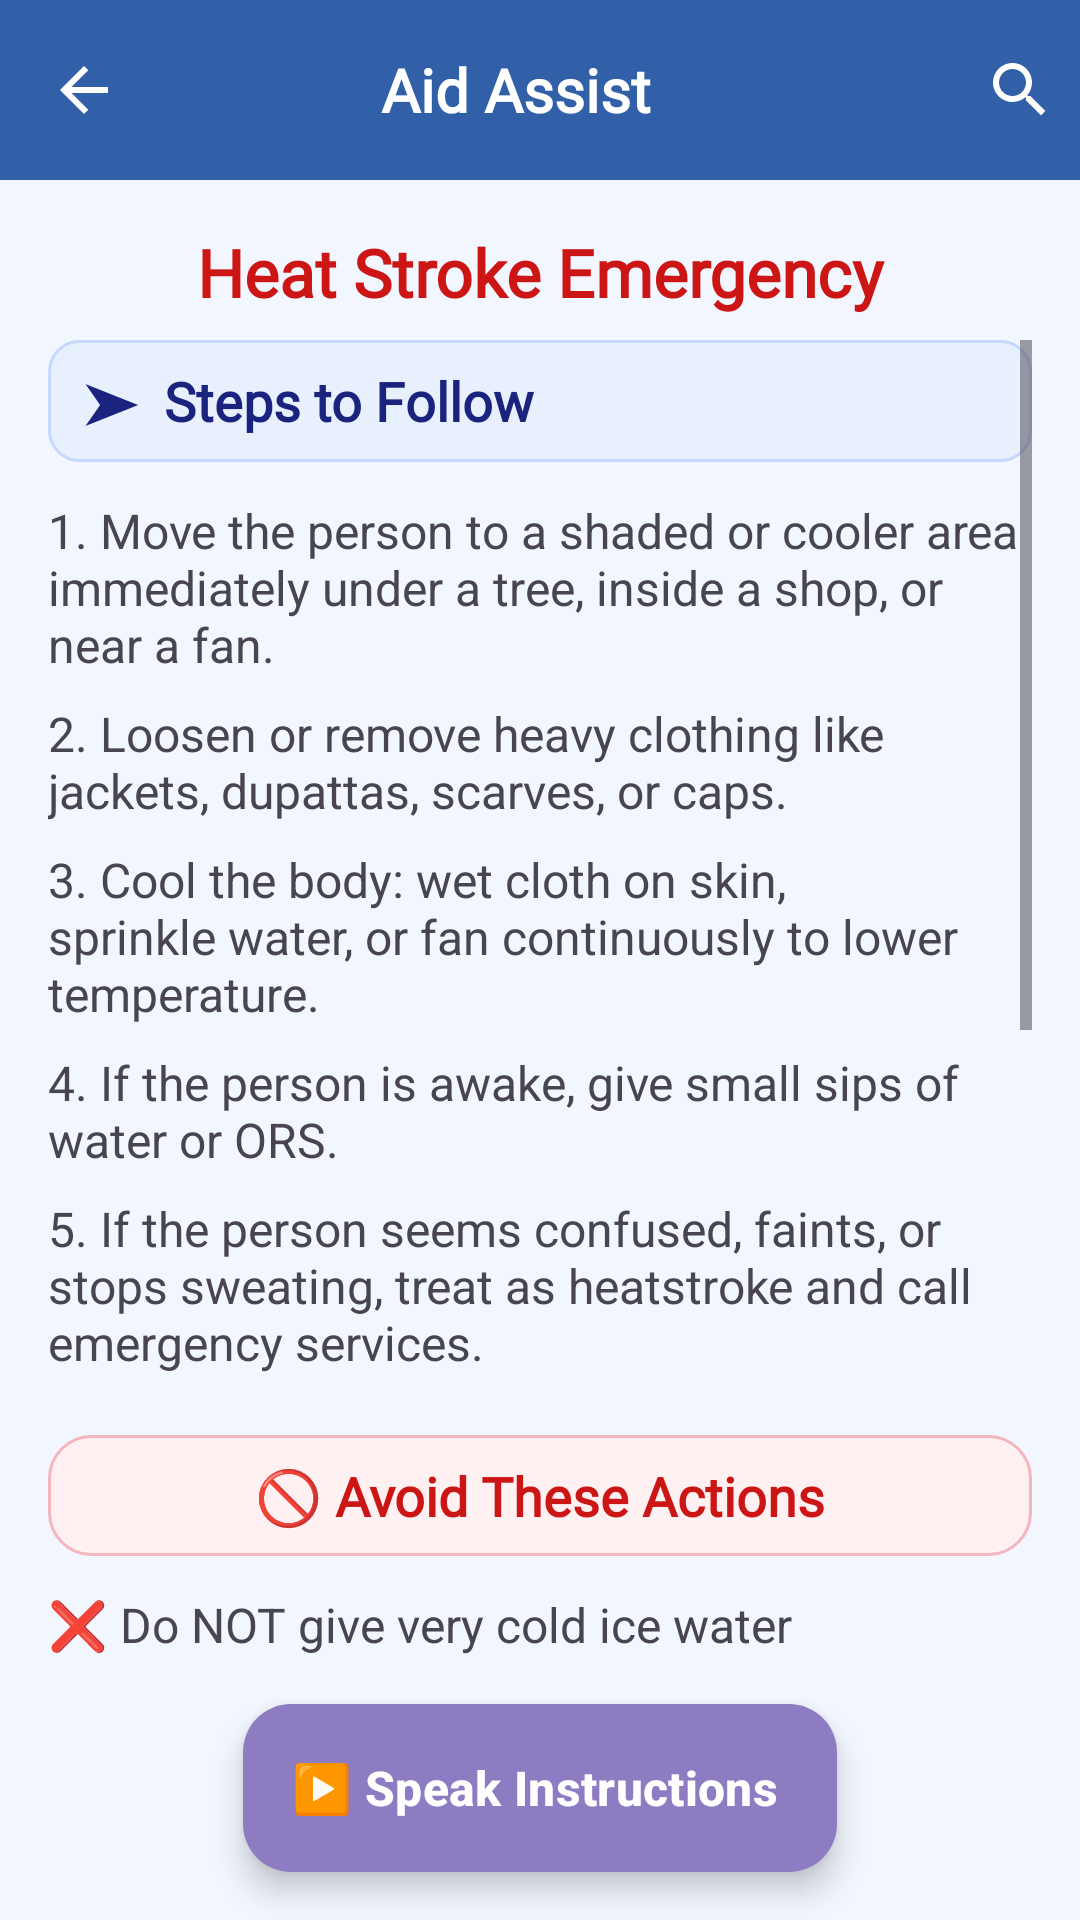

Where to tap for icons on this 1080px×1920px app screen, as (x,y):
Back: (84,90)
Toggle Search: (1019,89)
